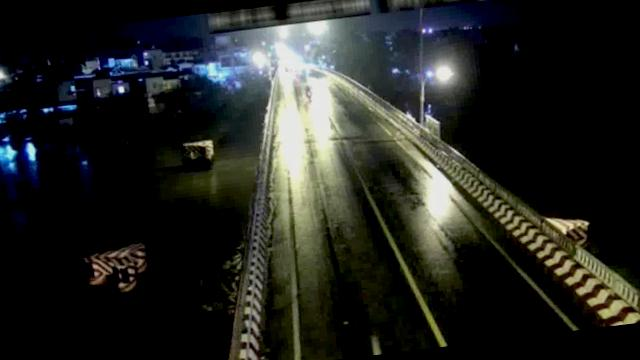Bike: (304, 83, 314, 103)
